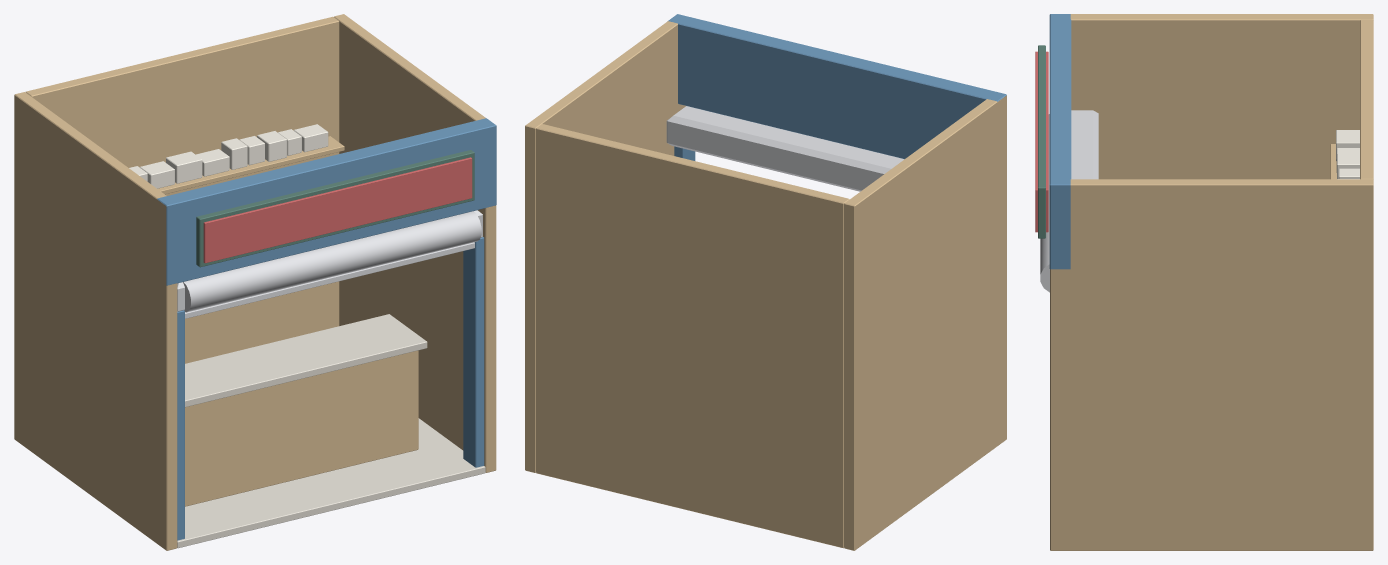
The model's file is indoor-market-hall-and-traders-lock-up-stall-unit-open-83b67308.glb.
3 renders of one model, left to right at view 1: azimuth 30°, elevation 25°; view 2: azimuth 150°, elevation 25°; view 3: azimuth 270°, elevation 25°, orthographic. The views are drawn at different scales.
Parts seen in each view (by area): view 1: lock-up-stall-unit-open; view 2: lock-up-stall-unit-open; view 3: lock-up-stall-unit-open.
Part boxes in pixels (bbox=[...]): lock-up-stall-unit-open: bbox=[14, 14, 496, 550]; lock-up-stall-unit-open: bbox=[525, 14, 1006, 550]; lock-up-stall-unit-open: bbox=[1035, 14, 1373, 550].
Size of the model in its own units: 3 by 3 by 2.51.
